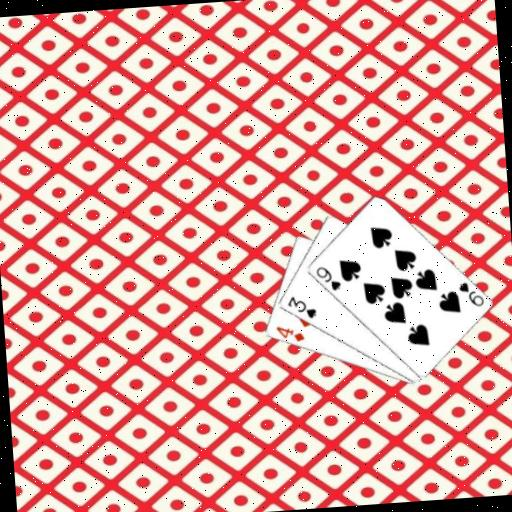3S: (284, 292, 318, 322)
4D: (272, 322, 306, 346)
9S: (312, 262, 343, 294), (455, 278, 486, 309)
